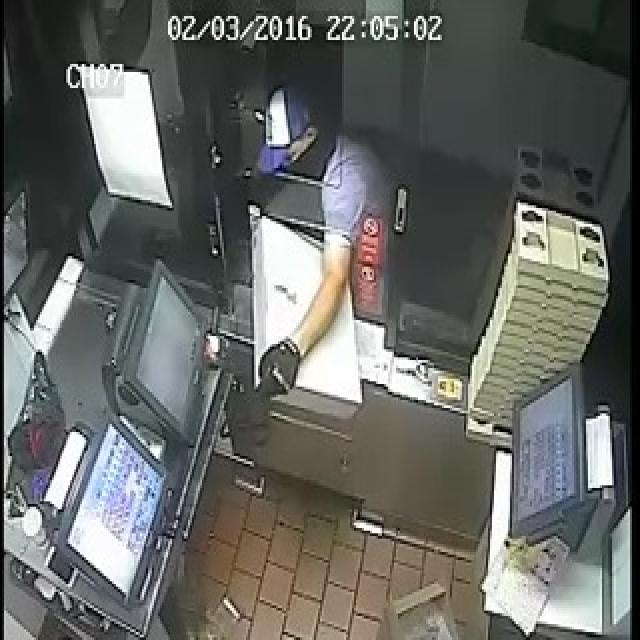thief: (249, 98, 360, 264)
